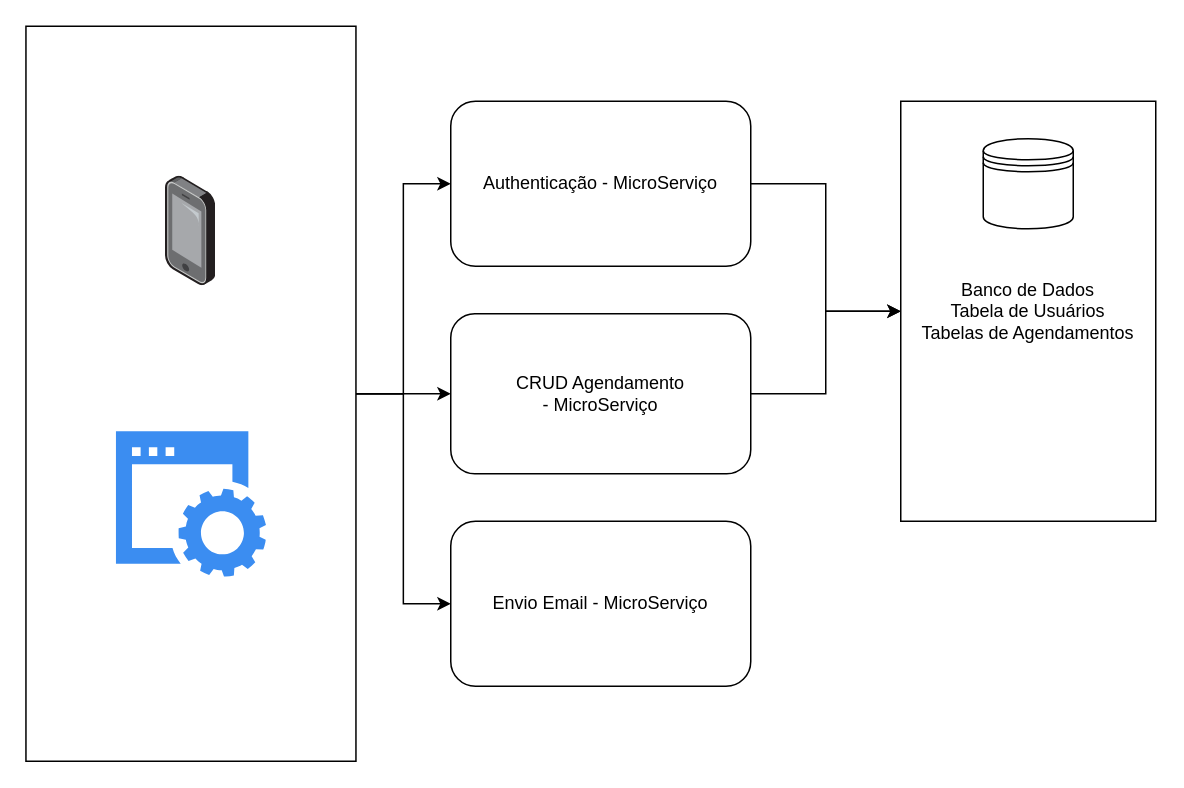
Image size: 1184x788. Some labels were removed from this diagram. Here are the shapes that lost their labels. From the top down, the box of each, then its label:
(165, 176, 215, 285): App Mobile
(115, 430, 265, 576): WebSite
